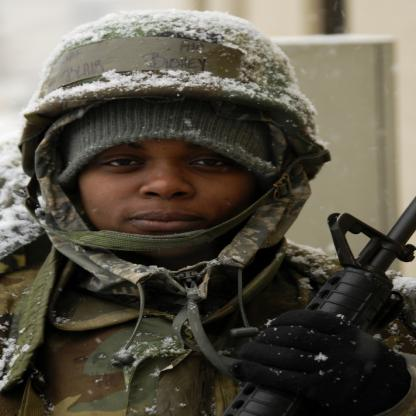Helmet: (18, 10, 334, 375)
